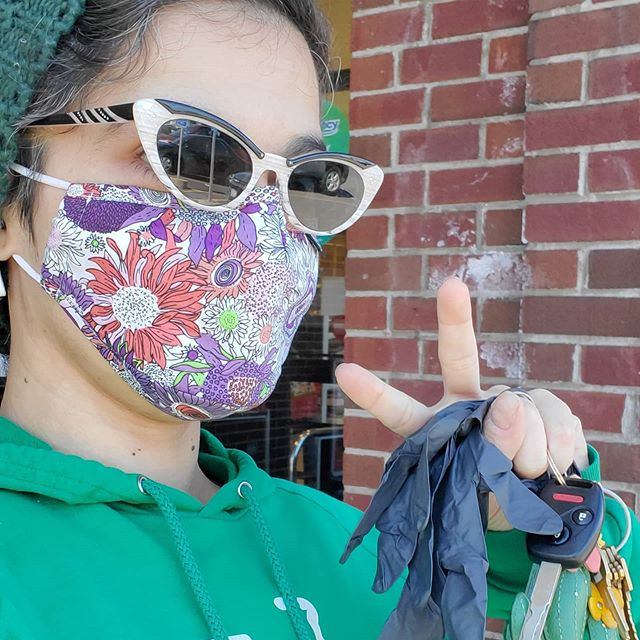homemade: (18, 169, 339, 431)
